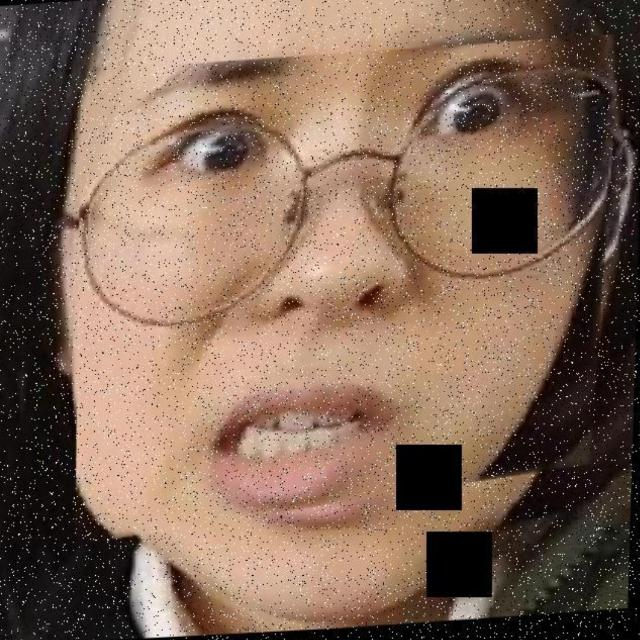Angry: (38, 40, 640, 578)
